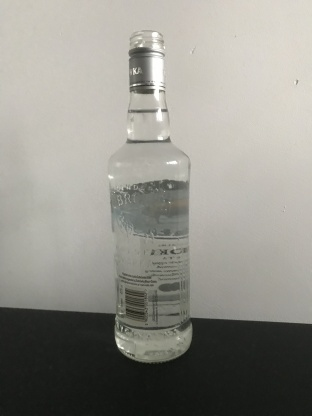nakretka: (126, 28, 167, 94)
